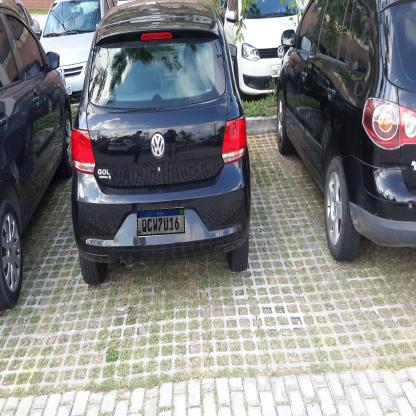PlacaM: (137, 208, 185, 236)
